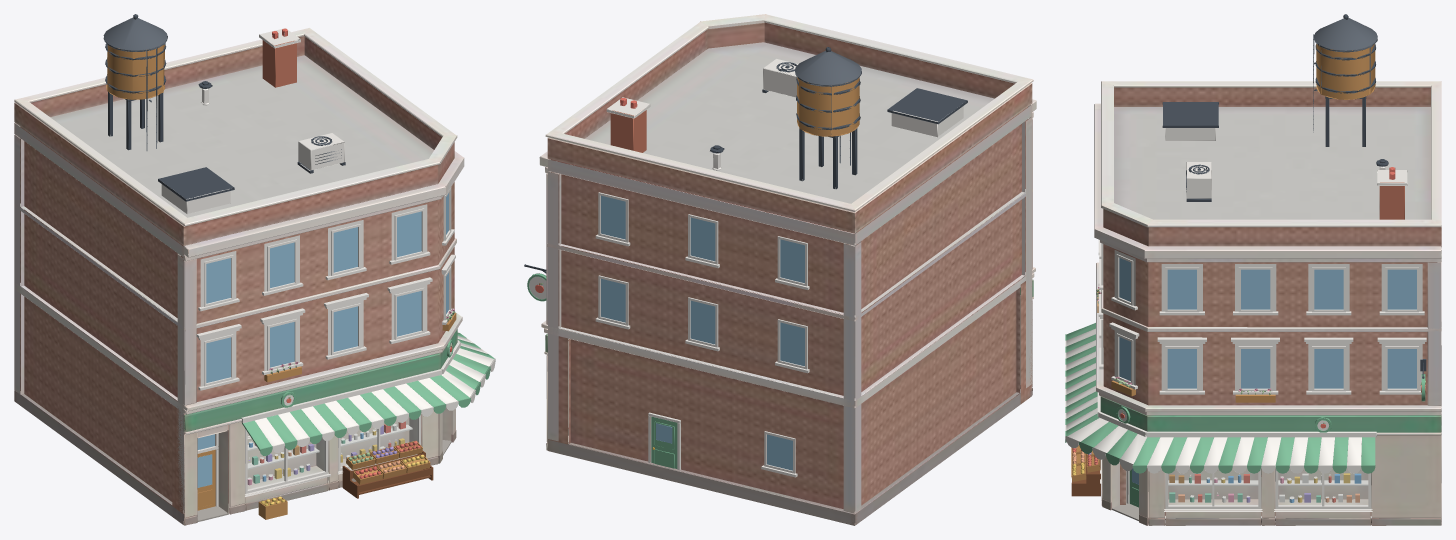
File: corner-shop-light.glb
3 renders of one model, left to right at view 1: azimuth 30°, elevation 25°; view 2: azimuth 150°, elevation 25°; view 3: azimuth 270°, elevation 25°, orthographic. The views are drawn at different scales.
Visible parts, largest first — view 1: corner-shop_body, corner-shop_windows, corner-shop_roof_items, corner-shop_awning, corner-shop_shop_glass, corner-shop_fruit_stand, corner-shop_details, corner-shop_display_goods, corner-shop_fruits; view 2: corner-shop_body, corner-shop_roof_items, corner-shop_windows, corner-shop_details; view 3: corner-shop_body, corner-shop_windows, corner-shop_awning, corner-shop_roof_items, corner-shop_shop_glass, corner-shop_display_goods, corner-shop_details, corner-shop_fruit_stand.
Part boxes in pixels (x1,y1,x2,y2): corner-shop_body: (14, 28, 464, 525); corner-shop_windows: (196, 187, 456, 496); corner-shop_roof_items: (103, 14, 345, 213); corner-shop_awning: (241, 331, 495, 455); corner-shop_shop_glass: (248, 418, 416, 488); corner-shop_fruit_stand: (258, 441, 433, 519); corner-shop_details: (197, 339, 453, 521); corner-shop_display_goods: (247, 421, 412, 485); corner-shop_fruits: (261, 441, 428, 506); corner-shop_body: (539, 14, 1036, 525); corner-shop_roof_items: (606, 47, 967, 189); corner-shop_windows: (595, 192, 809, 477); corner-shop_details: (524, 264, 680, 471); corner-shop_body: (1094, 81, 1441, 525); corner-shop_windows: (1096, 240, 1426, 511); corner-shop_awning: (1065, 323, 1376, 473); corner-shop_roof_items: (1162, 14, 1407, 219); corner-shop_shop_glass: (1169, 469, 1367, 504); corner-shop_display_goods: (1168, 473, 1368, 502); corner-shop_details: (1112, 359, 1426, 520); corner-shop_fruit_stand: (1071, 445, 1100, 496).
Bounding box in the file's own units: 13.35 × 15.79 × 13.35.
21 materials, 1 textured.
